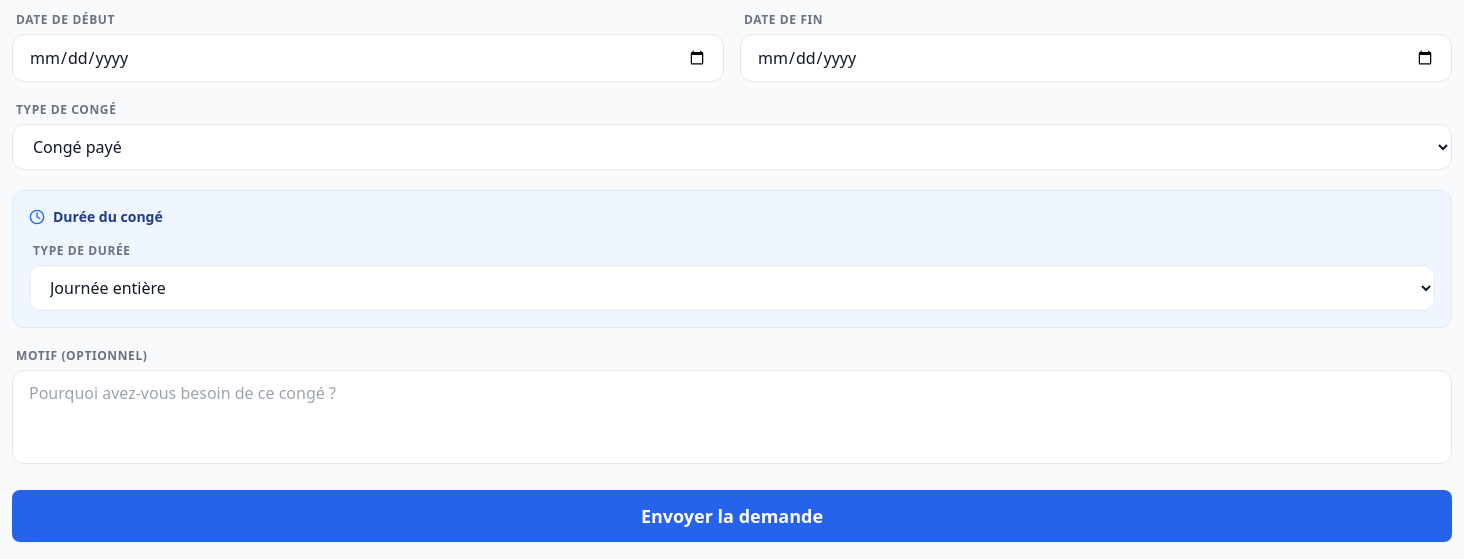
Scenario: LeaveRequestForm - durée › affiche 0.5 jour pour une demi-journée
In the date field labelled "Date de début": (368, 58) [12, 34, 724, 82], type "2026-01-15"
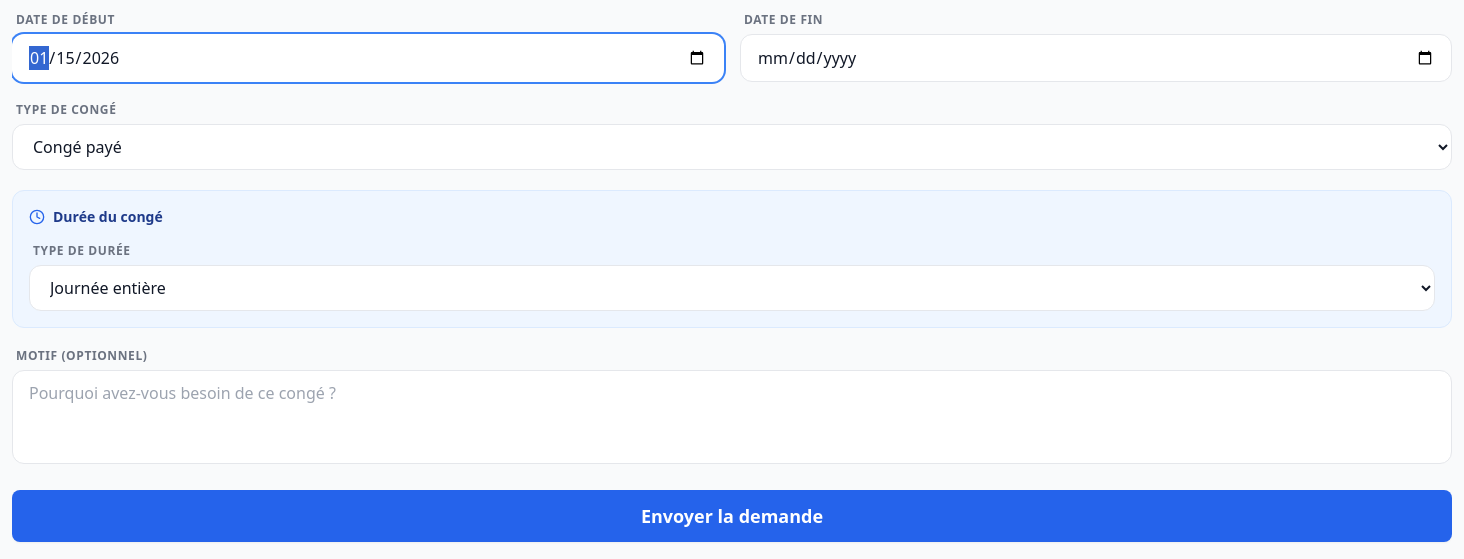
In the date field labelled "Date de fin": (1096, 58) [740, 34, 1452, 82], type "2026-01-15"
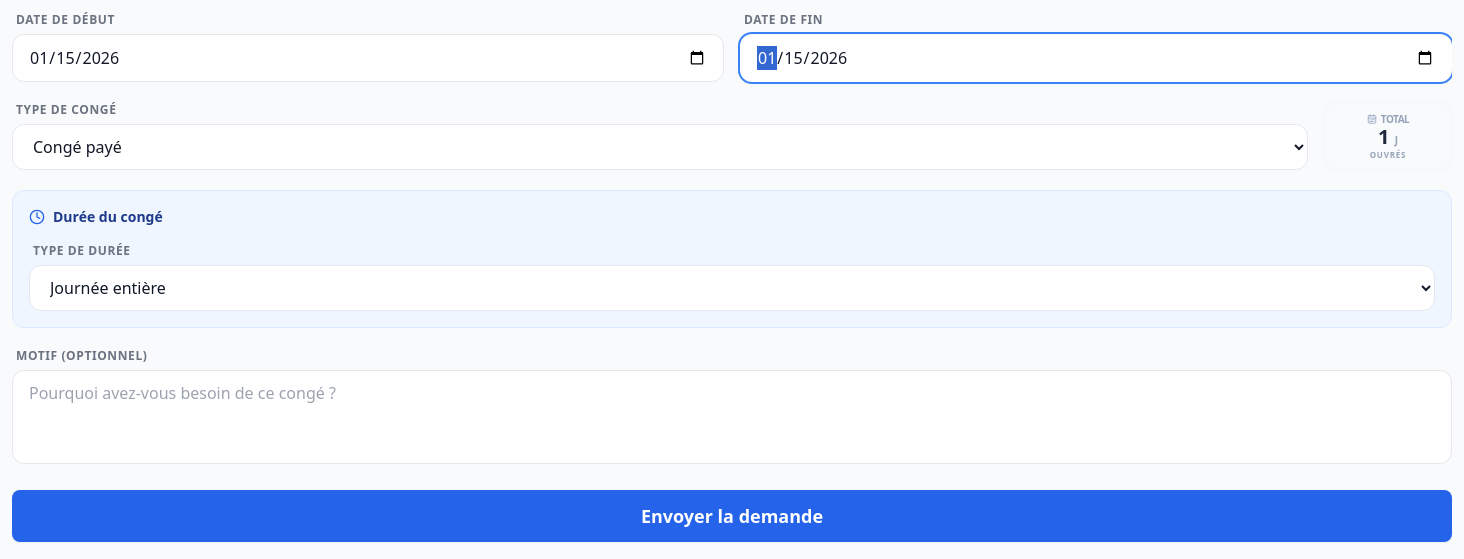
Select "Demi-journée (matin)" in the dropdown labelled "Type de durée": (732, 288) [29, 265, 1435, 311]
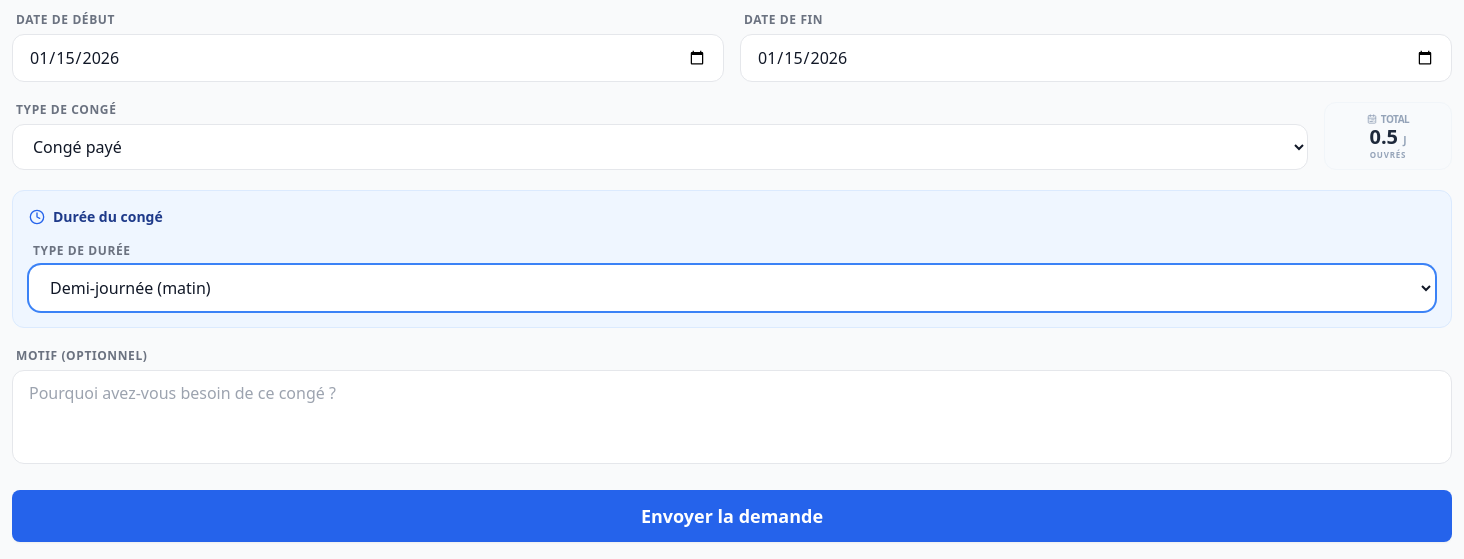
Check: the text "0.5 J" is shown, box [1369, 126, 1406, 146]
